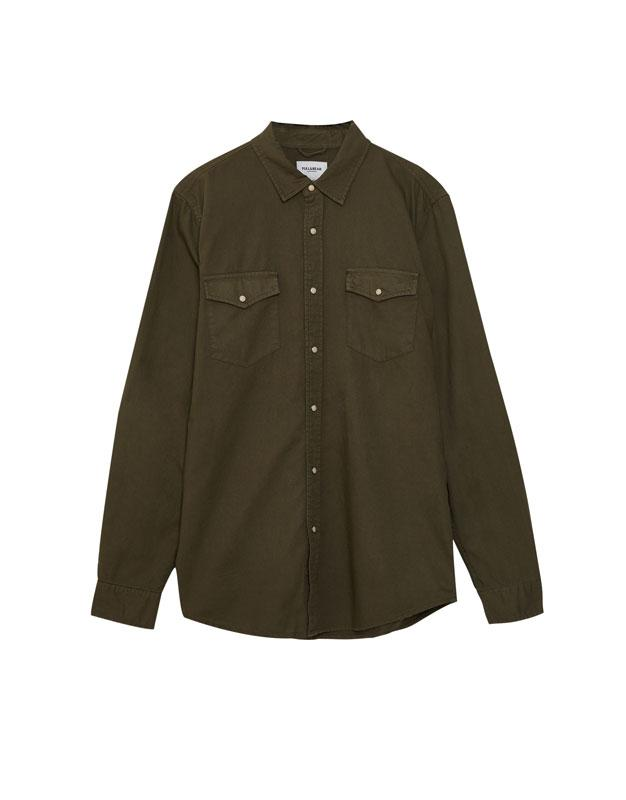teeshirt: (77, 119, 552, 659)
